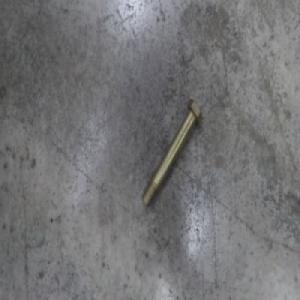Bolt: (141, 96, 202, 209)
